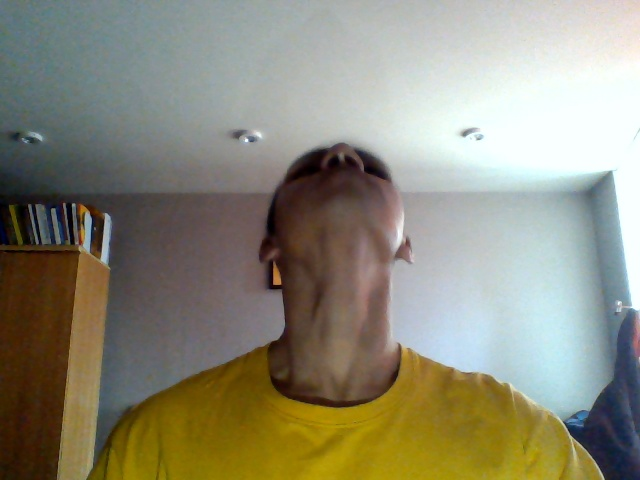no_mask: (272, 140, 407, 234)
